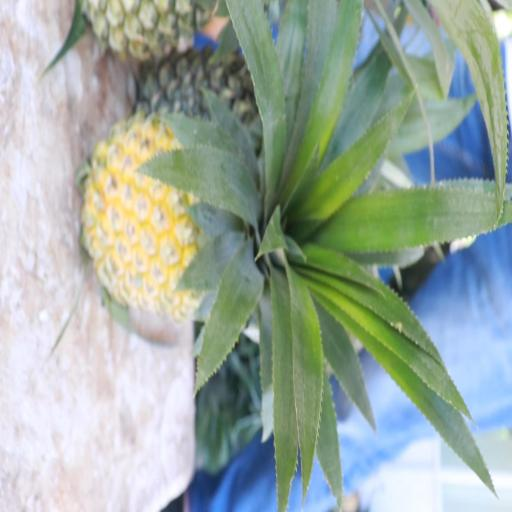Pineapple - v8 v1: (90, 114, 310, 315)
